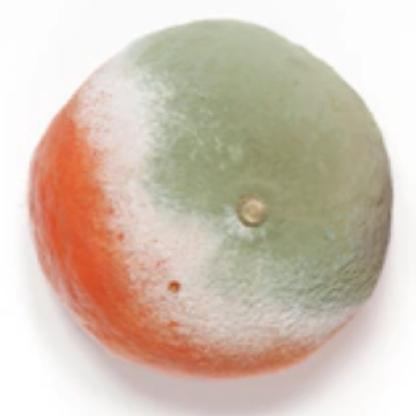rotten: (29, 20, 394, 387)
